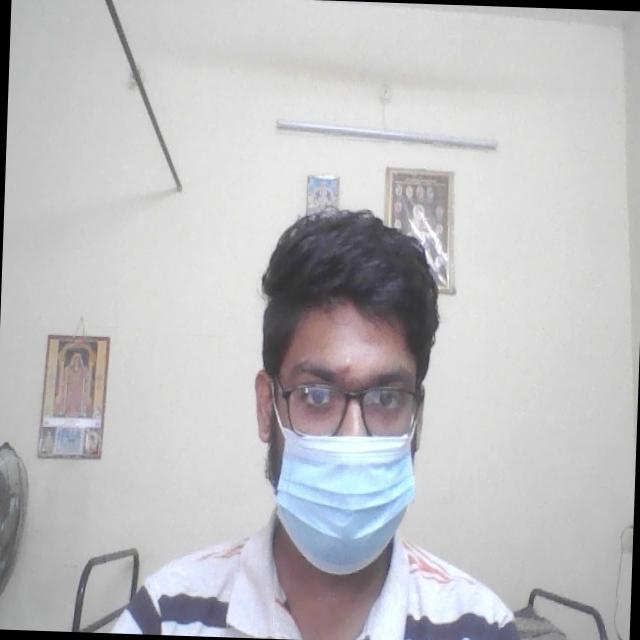Focused: (236, 294, 432, 554)
